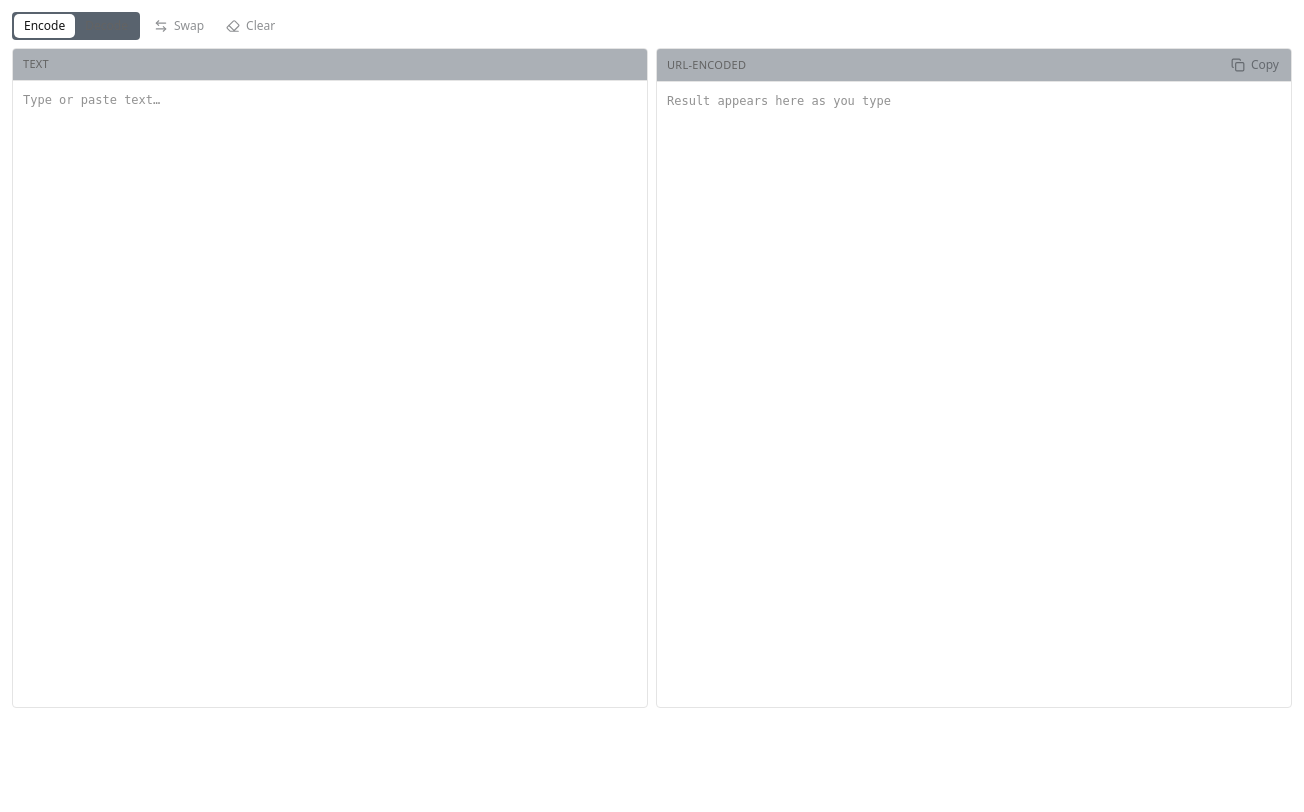
Test: URL › shows an error for malformed percent sequences
Click the radio button labelled "Decode".
click(107, 26)  # box [75, 14, 138, 38]
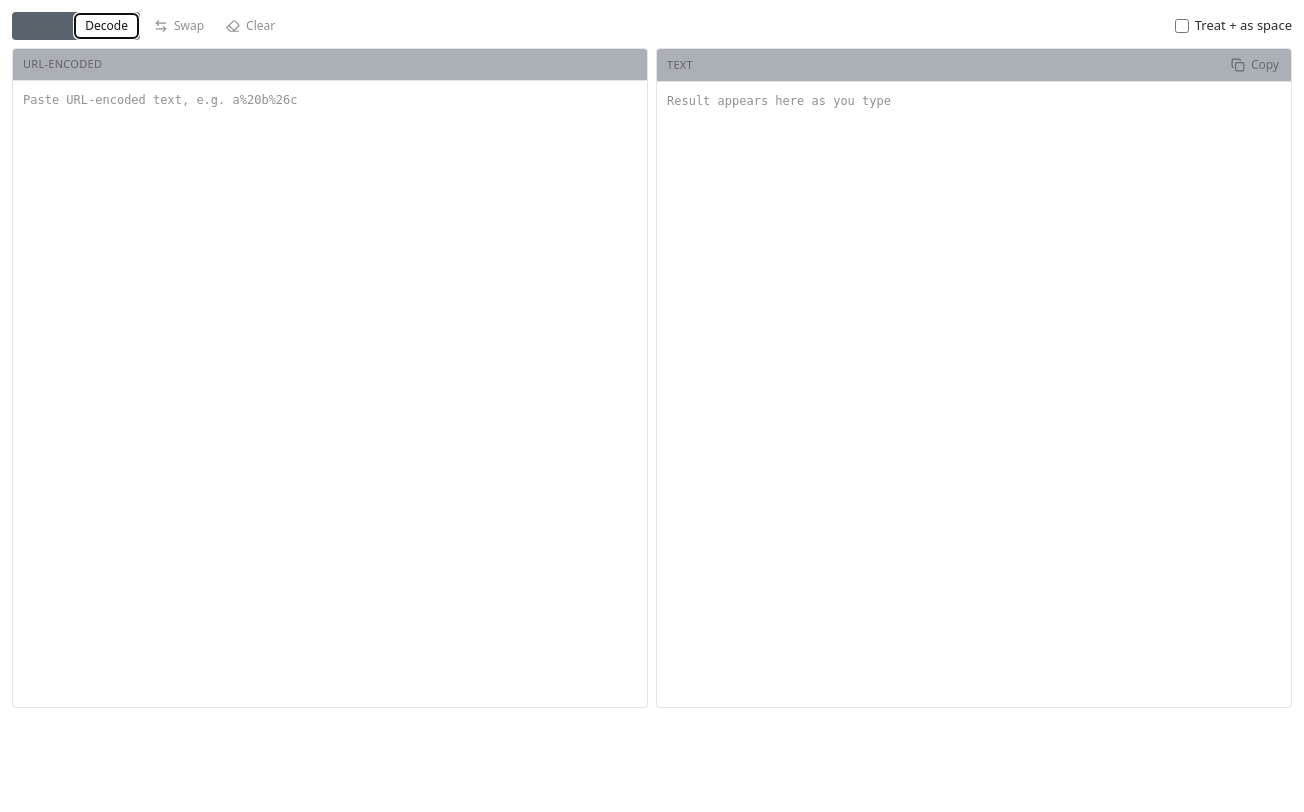
Type "100%" into the text box named "url-encoded text to decode".
click(330, 394); type("100%")  # box [13, 81, 647, 707]
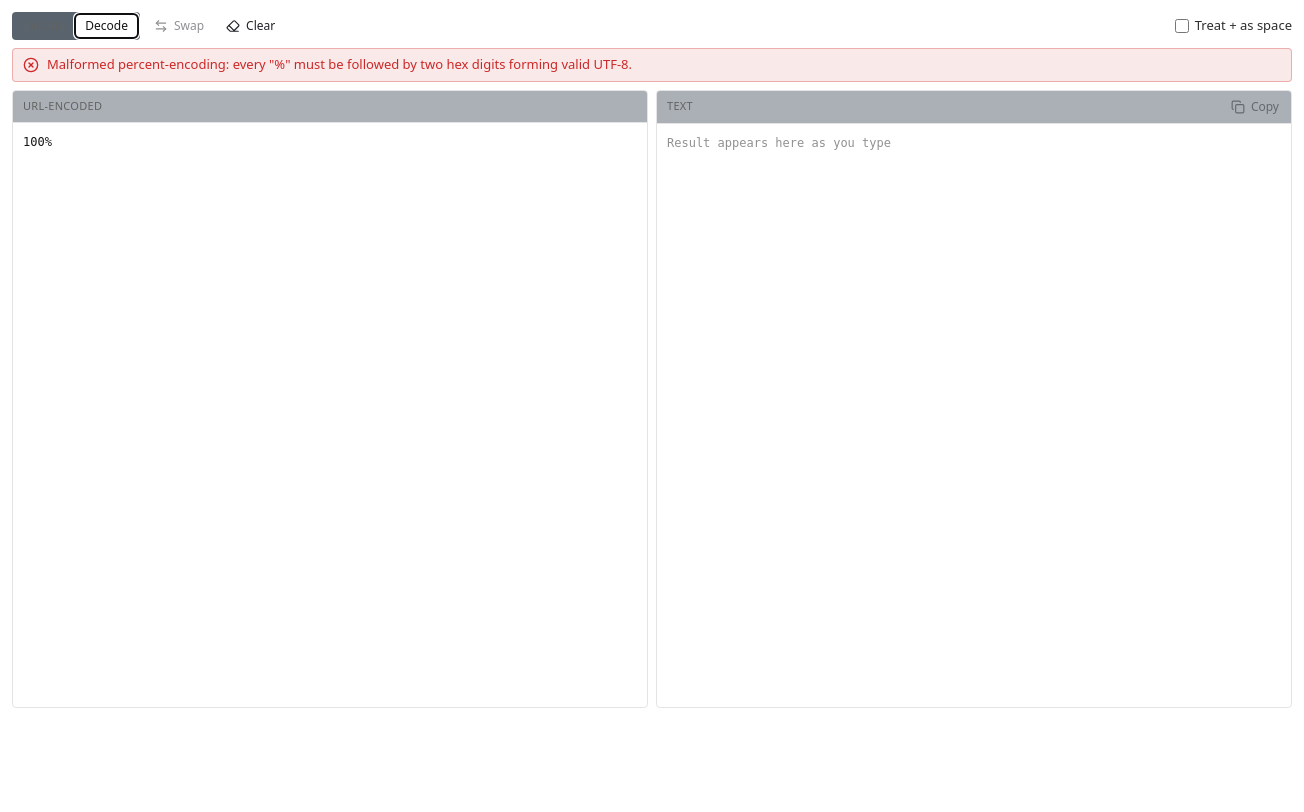
Expected: the text box labelled "Result" is empty, [657, 124, 1291, 707]
Expected: the message shows "Malformed", [47, 55, 632, 73]
